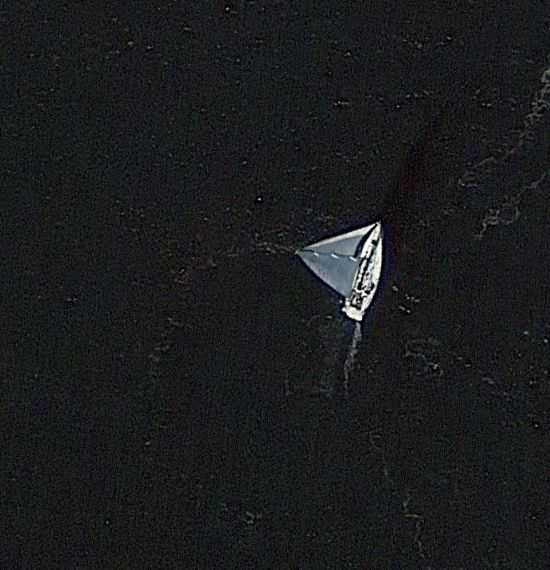boat: (293, 216, 388, 325)
